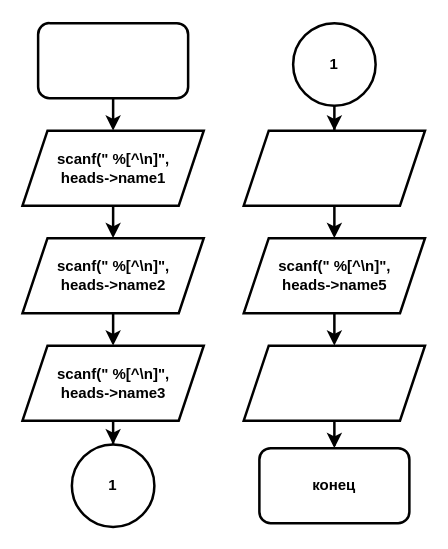
Image size: 448x549. Some labels were removed from this diagram. The shapes that lost their labels are listed below. From the top down, each one's box as (x1, y1, x2, y2) in pixels, then its label:
(36, 21, 189, 99): начало
(242, 129, 426, 206): scanf(" %[^\n]", heads->name4
(242, 344, 426, 421): scanf(" %[^\n]", heads->name6
